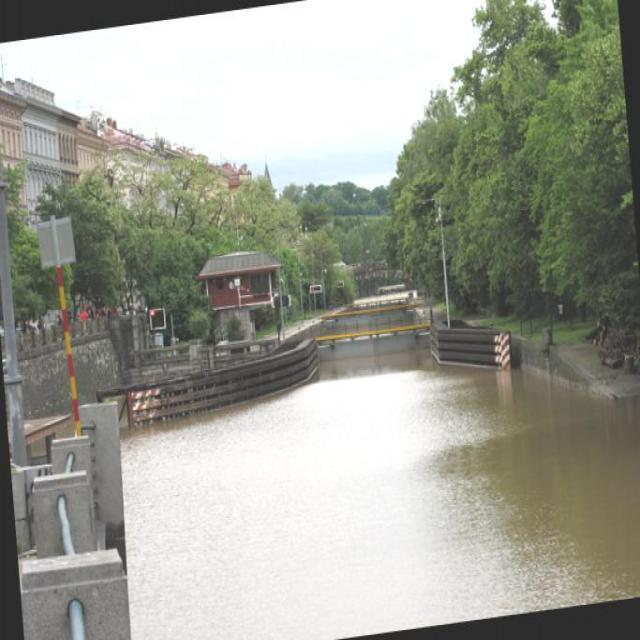flood: (109, 330, 639, 639)
